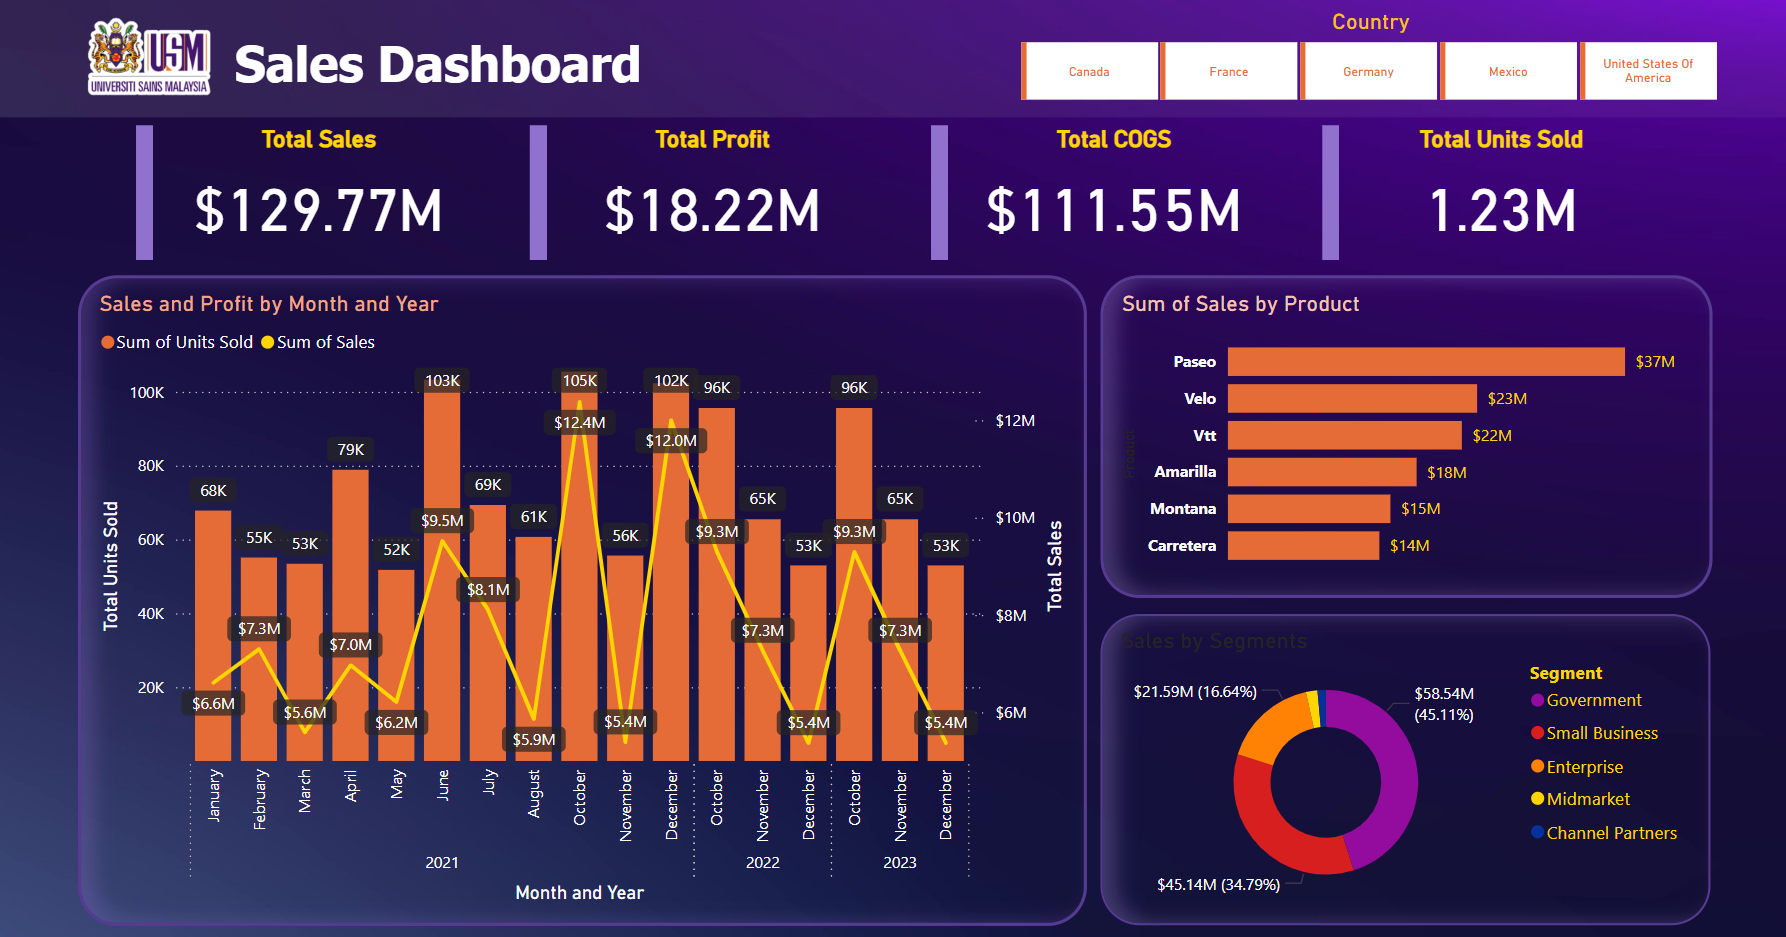

Layout of this report page (visuals, bound fields, positions):
{"tool":"powerbi","page":{"name":"Page 2","canvas":[1280,720],"ordinal":0},"visuals":[{"type":"textbox","box":[130,21.4,335.7,62.9],"z":0},{"type":"image","box":[0,10,141.4,71.4],"z":1000},{"type":"advancedSlicerVisual","fields":{"Values":["Cleaned data.Country"]},"box":[731.4,7.1,548.6,77.1],"z":2000},{"type":"lineClusteredColumnComboChart","title":"Sales and Profit by Month and Year","fields":{"Y":["Sum(Cleaned data.Units Sold)"],"Y2":["Sum(Cleaned data.Sales)"],"Category":["Cleaned data.Date.Variation.Date Hierarchy.Year","Cleaned data.Date.Variation.Date Hierarchy.Month"]},"box":[15.7,211.4,772.9,498.6],"z":3000},{"type":"clusteredBarChart","fields":{"Category":["Cleaned data.Product"],"Y":["Sum(Cleaned data.Sales)"]},"box":[798.6,211.4,468.6,247.1],"z":4000},{"type":"donutChart","title":"Sales by Segments","fields":{"Y":["Sum(Cleaned data.Sales)"],"Category":["Cleaned data.Segment"]},"box":[798.6,471.4,467.1,238.6],"z":5000},{"type":"card","title":"Total Sales","fields":{"Values":["Sum(Cleaned data.Sales)"]},"box":[72.9,97.1,254.3,102.9],"z":6000},{"type":"card","title":"Total Profit","fields":{"Values":["Sum(Cleaned data.Profit)"]},"box":[374.3,97.1,254.3,102.9],"z":7000},{"type":"card","title":"Total COGS","fields":{"Values":["Sum(Cleaned data.COGS)"]},"box":[681.4,97.1,254.3,102.9],"z":8000},{"type":"card","title":"Total Units Sold","fields":{"Values":["Sum(Cleaned data.Units Sold)"]},"box":[981.4,97.1,248.6,102.9],"z":9000}]}

Visuals, with their boxes on the page's 1280x720 design canvas (x1, y1, x2, y2). These are canvas units, not pixel positions in the 1786x937 screenshot, which may show the page scaled, cropped or inside an application window:
textbox: bbox=[130, 21, 466, 84]
image: bbox=[0, 10, 141, 81]
advancedSlicerVisual - Cleaned data.Country: bbox=[731, 7, 1280, 84]
"Sales and Profit by Month and Year" lineClusteredColumnComboChart: bbox=[16, 211, 789, 710]
clusteredBarChart - Cleaned data.Product x Sum(Cleaned data.Sales): bbox=[799, 211, 1267, 458]
"Sales by Segments" donutChart: bbox=[799, 471, 1266, 710]
"Total Sales" card: bbox=[73, 97, 327, 200]
"Total Profit" card: bbox=[374, 97, 629, 200]
"Total COGS" card: bbox=[681, 97, 936, 200]
"Total Units Sold" card: bbox=[981, 97, 1230, 200]
